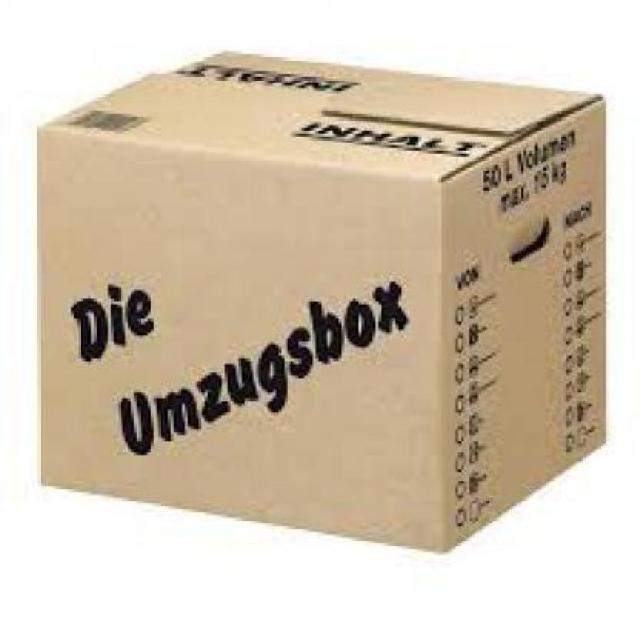CARDBOARD: (31, 48, 603, 549)
